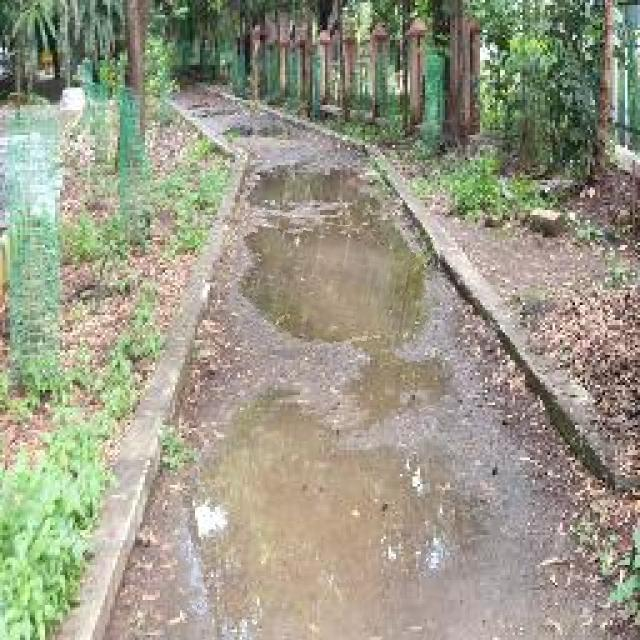puddle: (180, 409, 444, 640), (229, 218, 439, 356)
